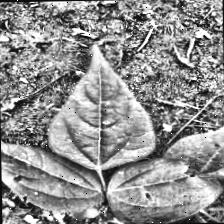ALS: (123, 164, 200, 211), (1, 152, 60, 190), (192, 121, 224, 170)
